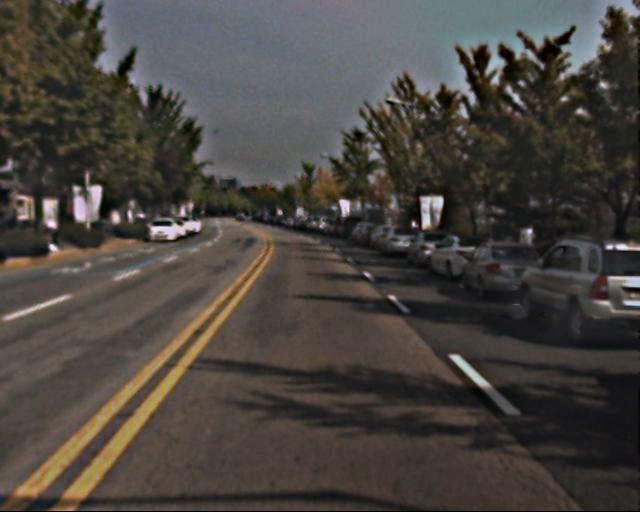person: (498, 218, 519, 270), (515, 219, 536, 270)
